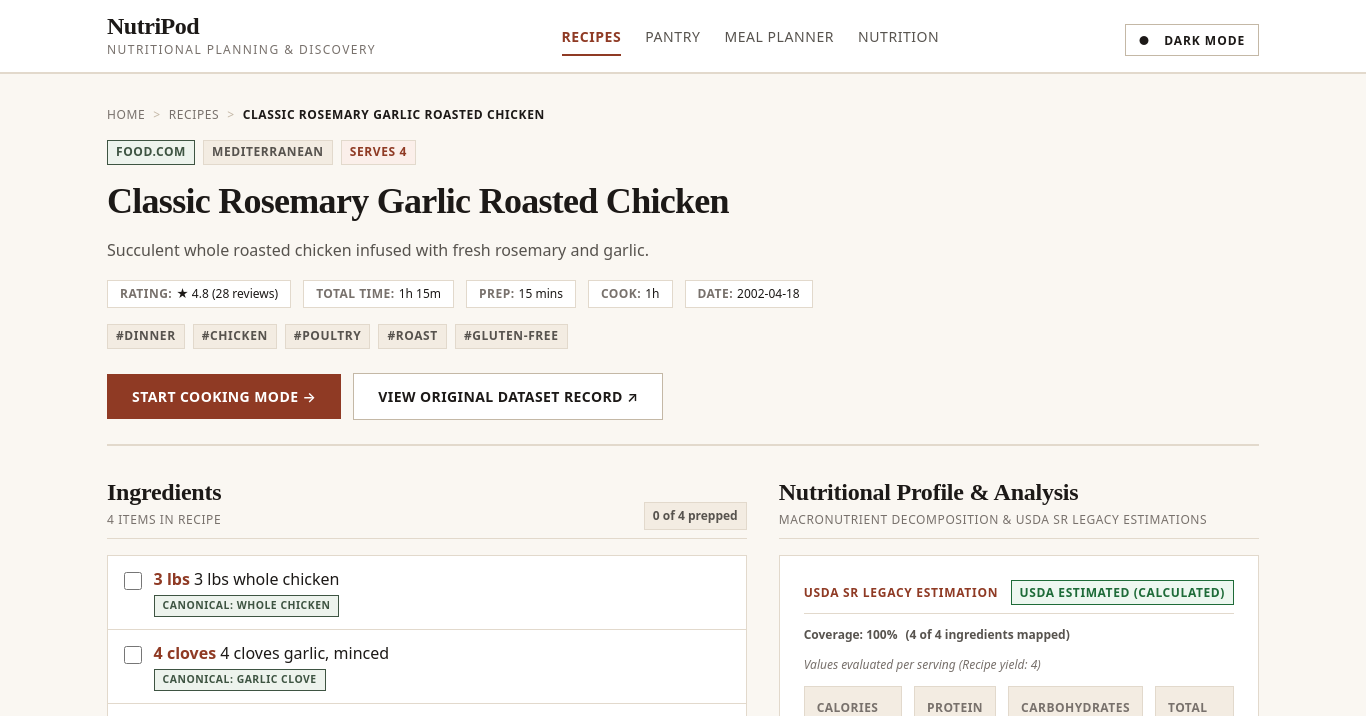
Test case: Recipe Details, Ingredients, Instructions & Cooking Mode (Step 05.3) › 21. progress indicator updates with steps
Click the button with test id "enter-cooking-mode-btn". click: (224, 396)
box: [107,374,341,418]
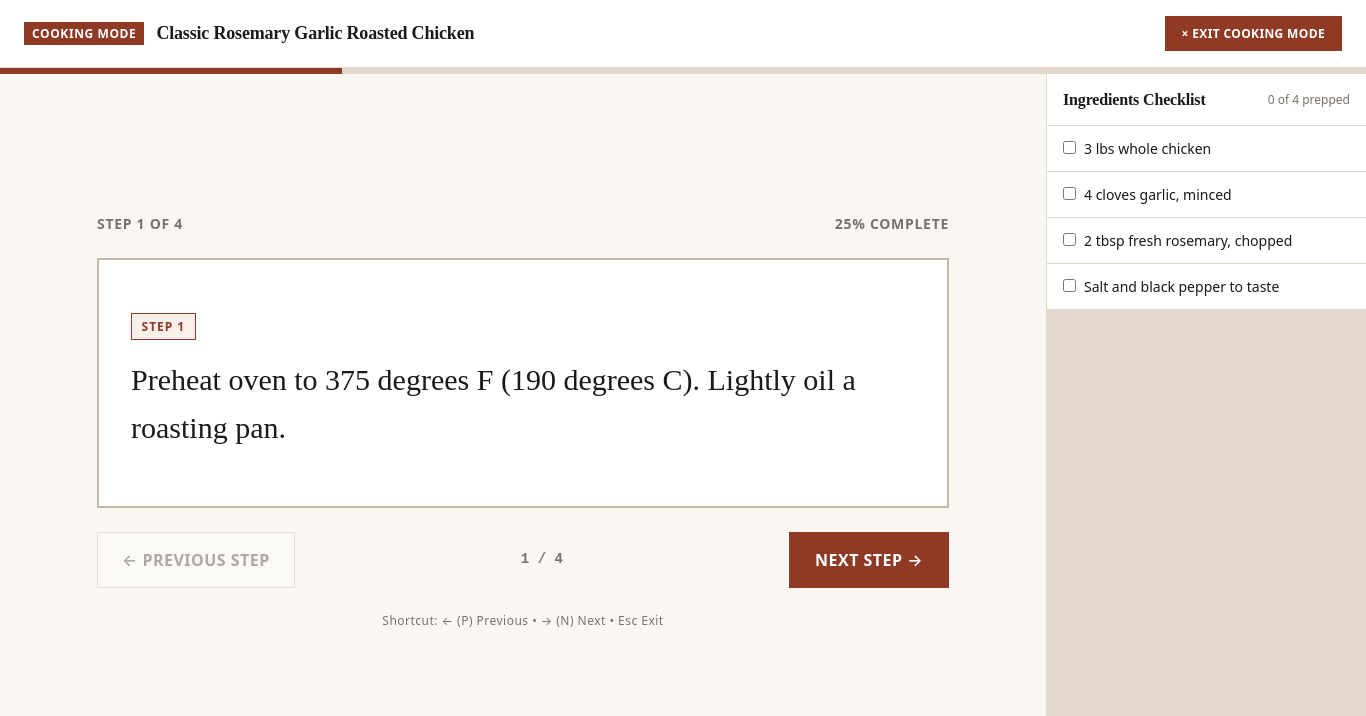
Click the button with test id "cooking-next-btn". click: (869, 560)
box: [789,532,949,588]
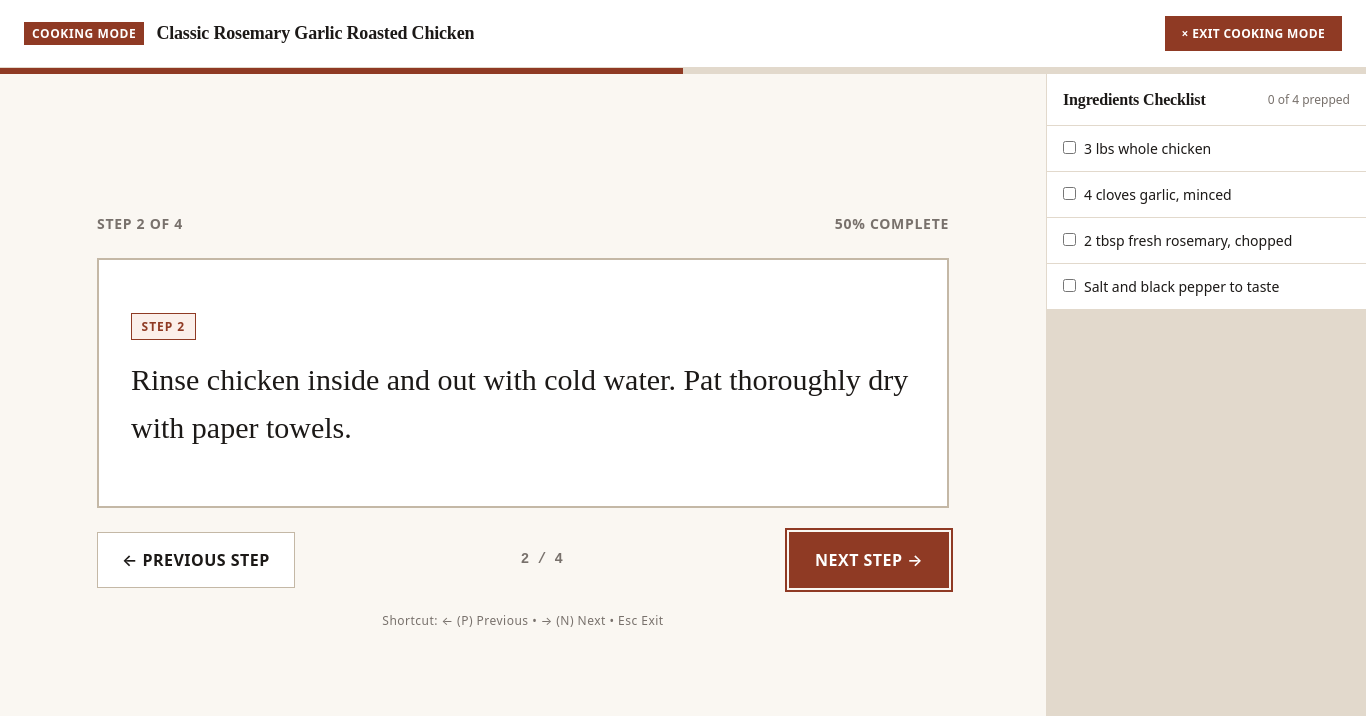
Expected: the element with test id "step-counter" shows "50% Complete", [97,212,949,234]
